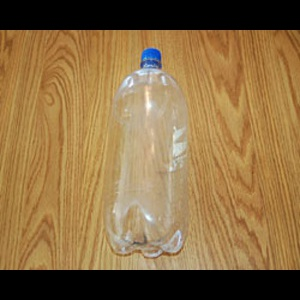emptybottle: (106, 48, 190, 259)
